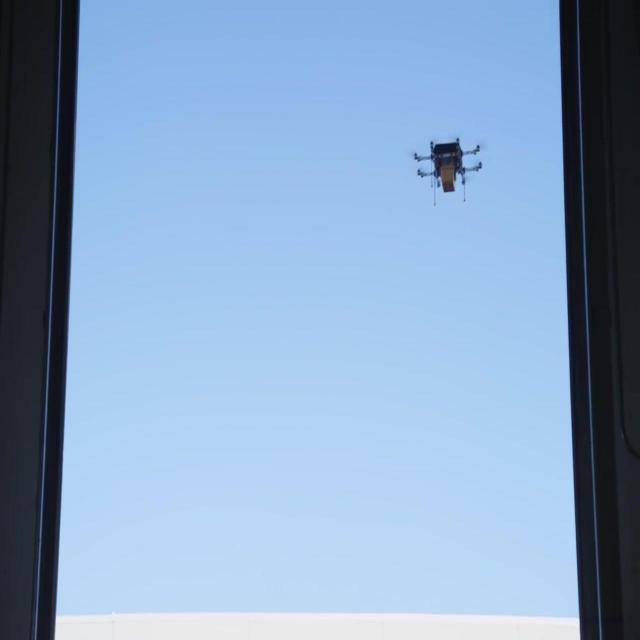UAV: (412, 138, 483, 206)
